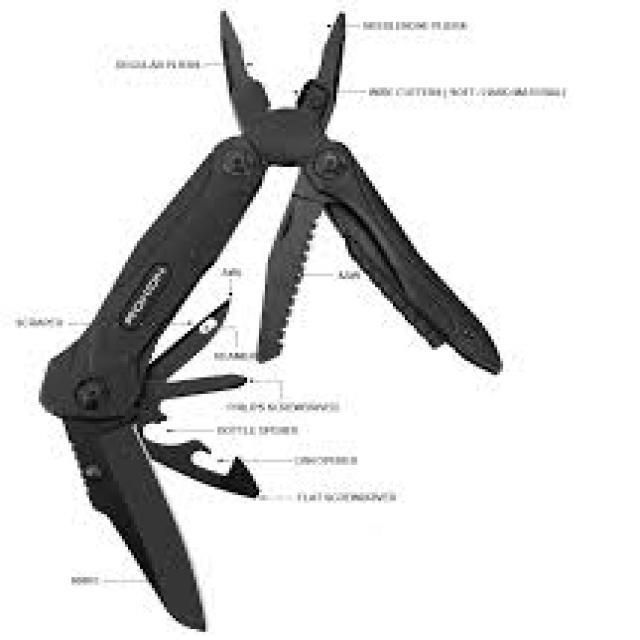pliers: (109, 7, 428, 283)
